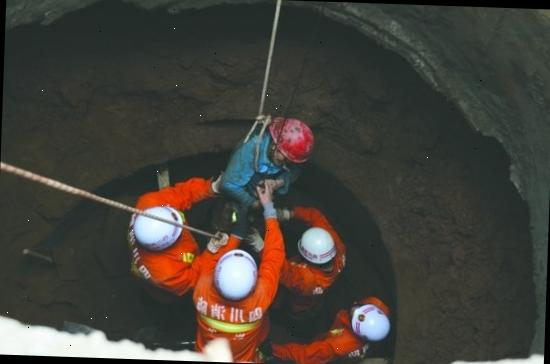helmet: (210, 247, 260, 303), (133, 204, 183, 256), (266, 117, 314, 164), (294, 226, 341, 268), (349, 303, 392, 345)
wear: (191, 296, 271, 358)
